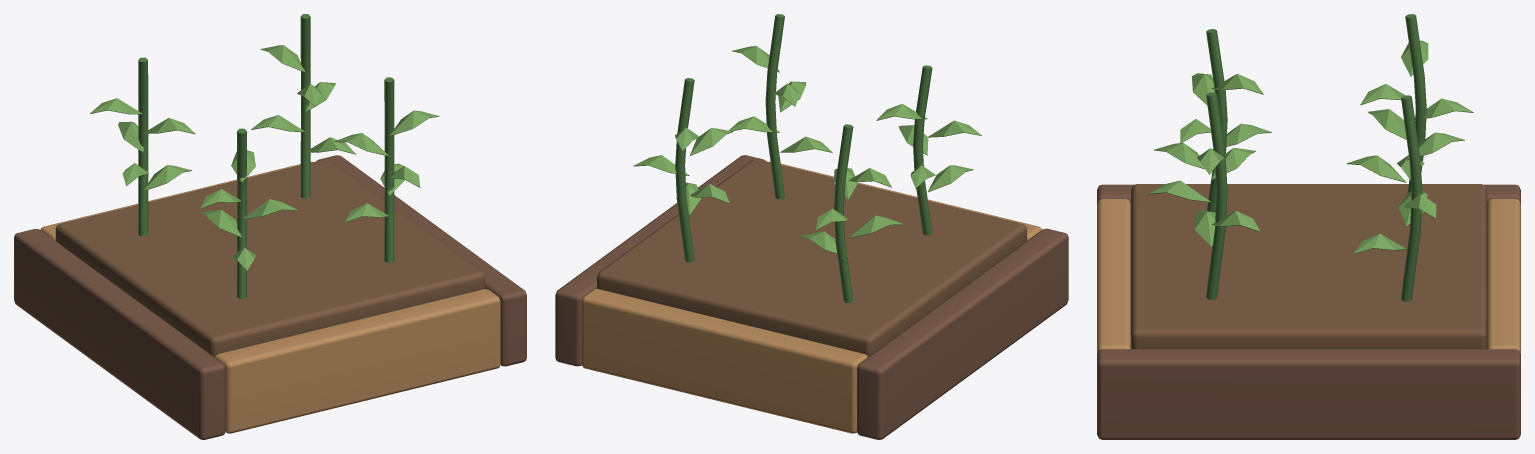
Rendered from garden.flower.cornflower-growing.glb.
3 views of the same model, side by side, from view 1: azimuth 30°, elevation 25°; view 2: azimuth 150°, elevation 25°; view 3: azimuth 270°, elevation 25° (orthographic). The views are drawn at different scales.
Visible parts, largest first — view 1: Cedar raised bed rail; view 2: Cedar raised bed rail; view 3: Cedar raised bed rail.
Part boxes in pixels (x1,y1,x2,y2): Cedar raised bed rail: (14, 14, 526, 439); Cedar raised bed rail: (555, 14, 1068, 439); Cedar raised bed rail: (1097, 14, 1520, 439).
Size of the model in its own units: 1 by 0.7812 by 1.
